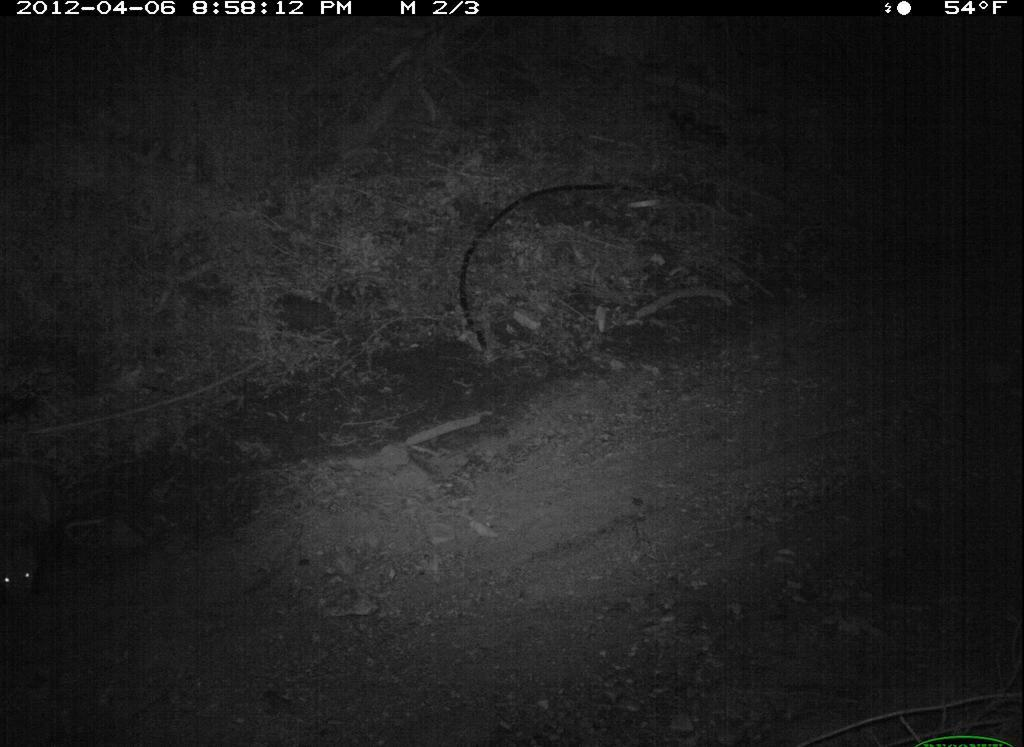opossum: (2, 445, 86, 619)
